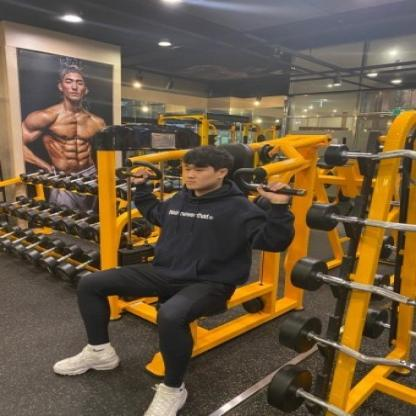shoulder press machine: (58, 111, 416, 416)
